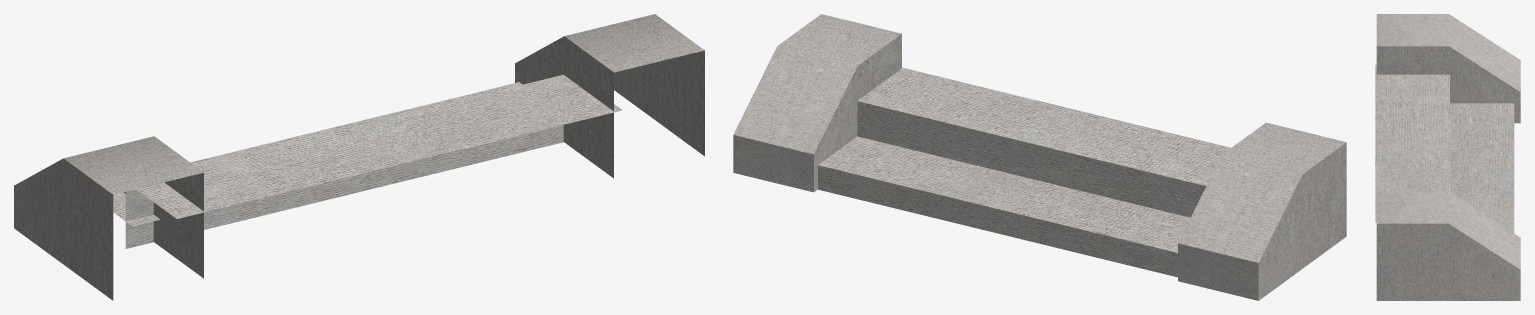
Rendered from Building_Beilang_TaiJie.FBX.
The picture shows the model from 3 angles, left to right: view 1: azimuth 30°, elevation 25°; view 2: azimuth 150°, elevation 25°; view 3: azimuth 270°, elevation 25°; orthographic projection. The views are drawn at different scales.
Visible parts, largest first — view 1: Object001; view 2: Object001; view 3: Object001.
Part boxes in pixels (x1,y1,x2,y2): Object001: (14,14,704,300); Object001: (733,14,1346,300); Object001: (1375,14,1520,300).
Bounding box in the file's own units: 255 × 43.85 × 74.69.
